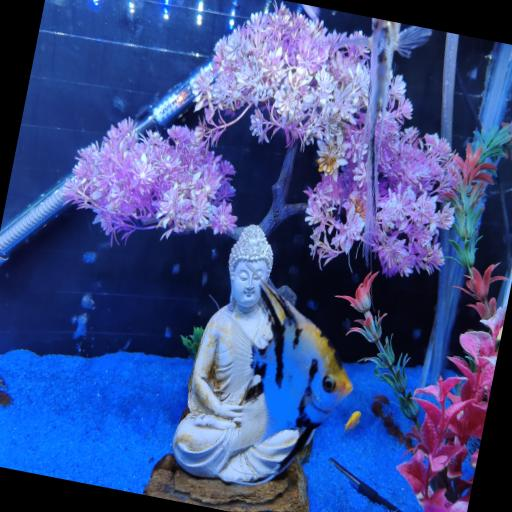Fish: (338, 18, 432, 263), (239, 282, 352, 483), (344, 411, 361, 434), (302, 4, 320, 20)
